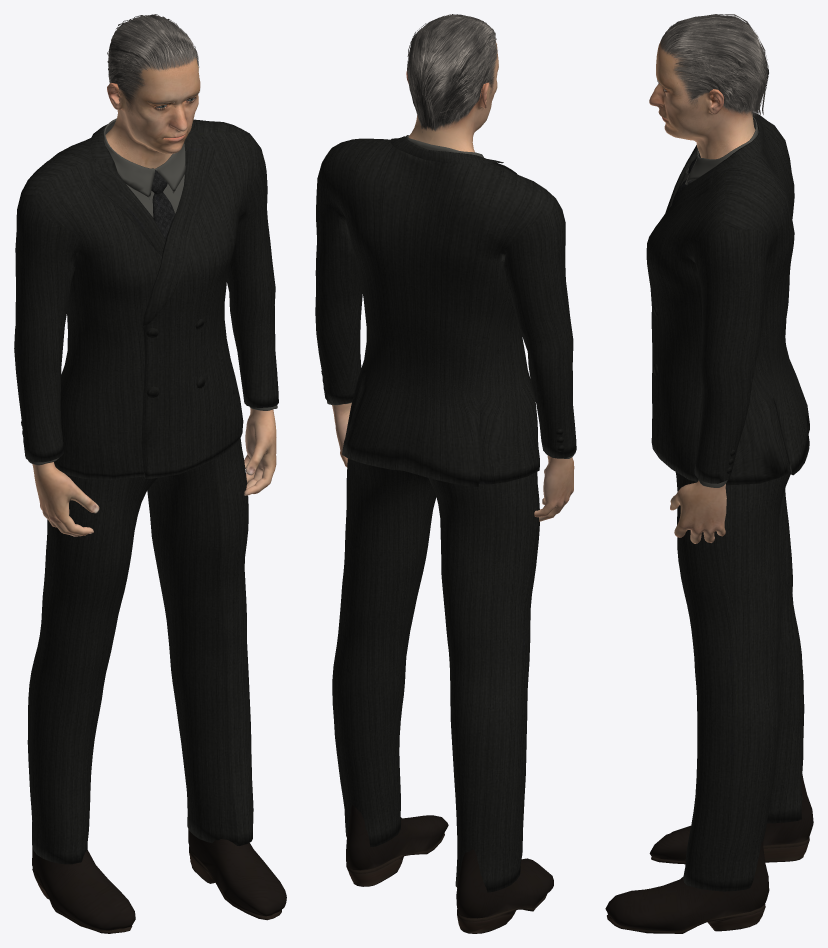
Rendered from civ_voss_stand.glb.
3 renders of one model, left to right at view 1: azimuth 30°, elevation 25°; view 2: azimuth 150°, elevation 25°; view 3: azimuth 270°, elevation 25°, orthographic.
Visible parts, largest first — view 1: stand; view 2: stand; view 3: stand.
Part boxes in pixels (x1,y1,x2,y2): stand: (14,14,286,933); stand: (315,14,576,933); stand: (605,14,813,933).
Size of the model in its own units: 0.5577 by 1.85 by 0.4002.
Materials: 7 (7 with a texture image).
